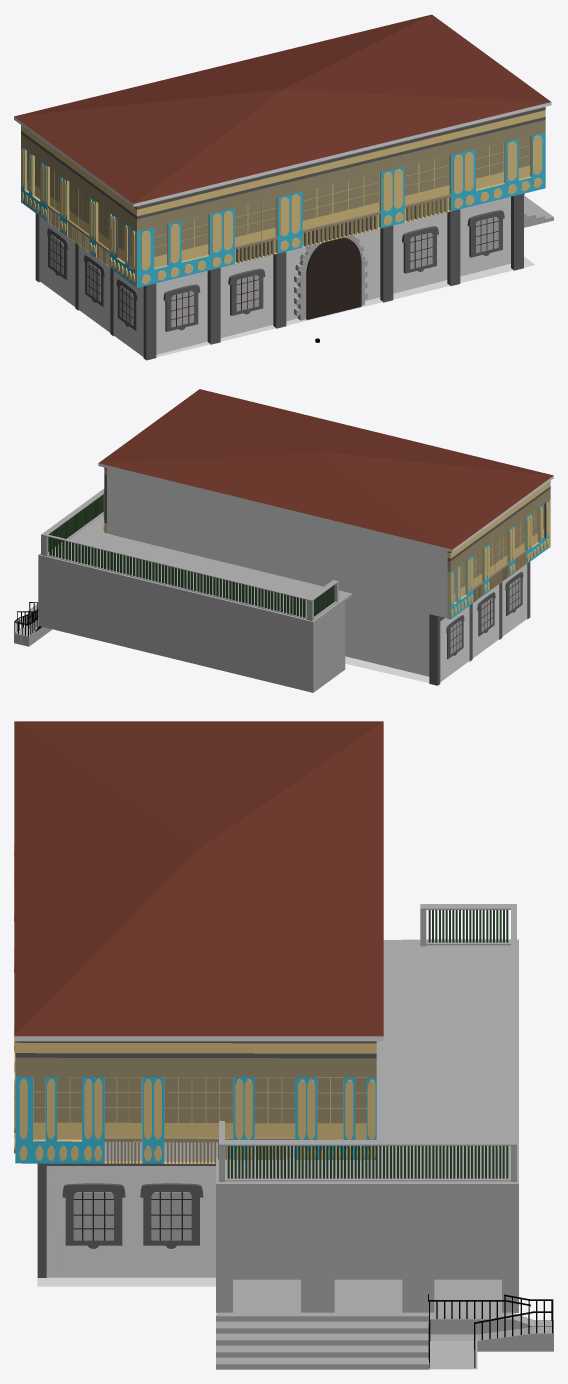
Rendered from museo.fbx.
3 renders of one model, top to bottom at view 1: azimuth 30°, elevation 25°; view 2: azimuth 150°, elevation 25°; view 3: azimuth 270°, elevation 25°, orthographic. The views are drawn at different scales.
Visible parts, largest first — view 1: Cube, Cube.015, Cube.048, Cube.005, Cube.024, Cube.002, Cube.004, Cube.001, Cube.006, Cube.012, Cube.008, Cube.009 (+24 smaller); view 2: Cube, Cube.117, Cube.114, Cube.048, Cube.185, Cube.180, Cube.181, Cube.182, Cube.189, Cube.116, Cube.121; view 3: Cube, Cube.117, Cube.081, Cube.114, Cube.116, Cube.189, Cube.115, Cube.120, Cube.118, Cube.119, Cube.122, Cube.121 (+16 smaller).
Boxes of the visible parts, left/top/right/bottom form: Cube: left=14, top=14, right=551, bottom=357; Cube.015: left=135, top=107, right=545, bottom=287; Cube.048: left=21, top=125, right=134, bottom=285; Cube.005: left=306, top=237, right=361, bottom=319; Cube.024: left=228, top=268, right=265, bottom=315; Cube.002: left=402, top=226, right=438, bottom=273; Cube.004: left=467, top=210, right=504, bottom=257; Cube.001: left=163, top=284, right=200, bottom=331; Cube.006: left=294, top=235, right=367, bottom=320; Cube.012: left=143, top=283, right=156, bottom=360; Cube.008: left=273, top=251, right=286, bottom=328; Cube.009: left=380, top=225, right=393, bottom=302; Cube: left=98, top=389, right=553, bottom=682; Cube.117: left=38, top=541, right=345, bottom=692; Cube.114: left=41, top=488, right=352, bottom=623; Cube.048: left=447, top=482, right=548, bottom=619; Cube.185: left=429, top=614, right=440, bottom=685; Cube.180: left=477, top=592, right=495, bottom=636; Cube.181: left=505, top=572, right=523, bottom=615; Cube.182: left=446, top=615, right=464, bottom=659; Cube.189: left=38, top=536, right=103, bottom=625; Cube.116: left=74, top=516, right=114, bottom=543; Cube.121: left=21, top=619, right=52, bottom=646; Cube: left=14, top=721, right=383, bottom=1286; Cube.117: left=402, top=939, right=518, bottom=1312; Cube.081: left=21, top=1041, right=376, bottom=1163; Cube.114: left=219, top=904, right=516, bottom=1181; Cube.116: left=317, top=1150, right=419, bottom=1312; Cube.189: left=417, top=1150, right=518, bottom=1312; Cube.115: left=216, top=1157, right=317, bottom=1312; Cube.120: left=216, top=1312, right=429, bottom=1369; Cube.118: left=62, top=1183, right=125, bottom=1248; Cube.119: left=140, top=1183, right=203, bottom=1248; Cube.122: left=429, top=1327, right=553, bottom=1369; Cube.121: left=430, top=1312, right=553, bottom=1334.
Size of the model in its own units: 33960 by 13628 by 21178.
